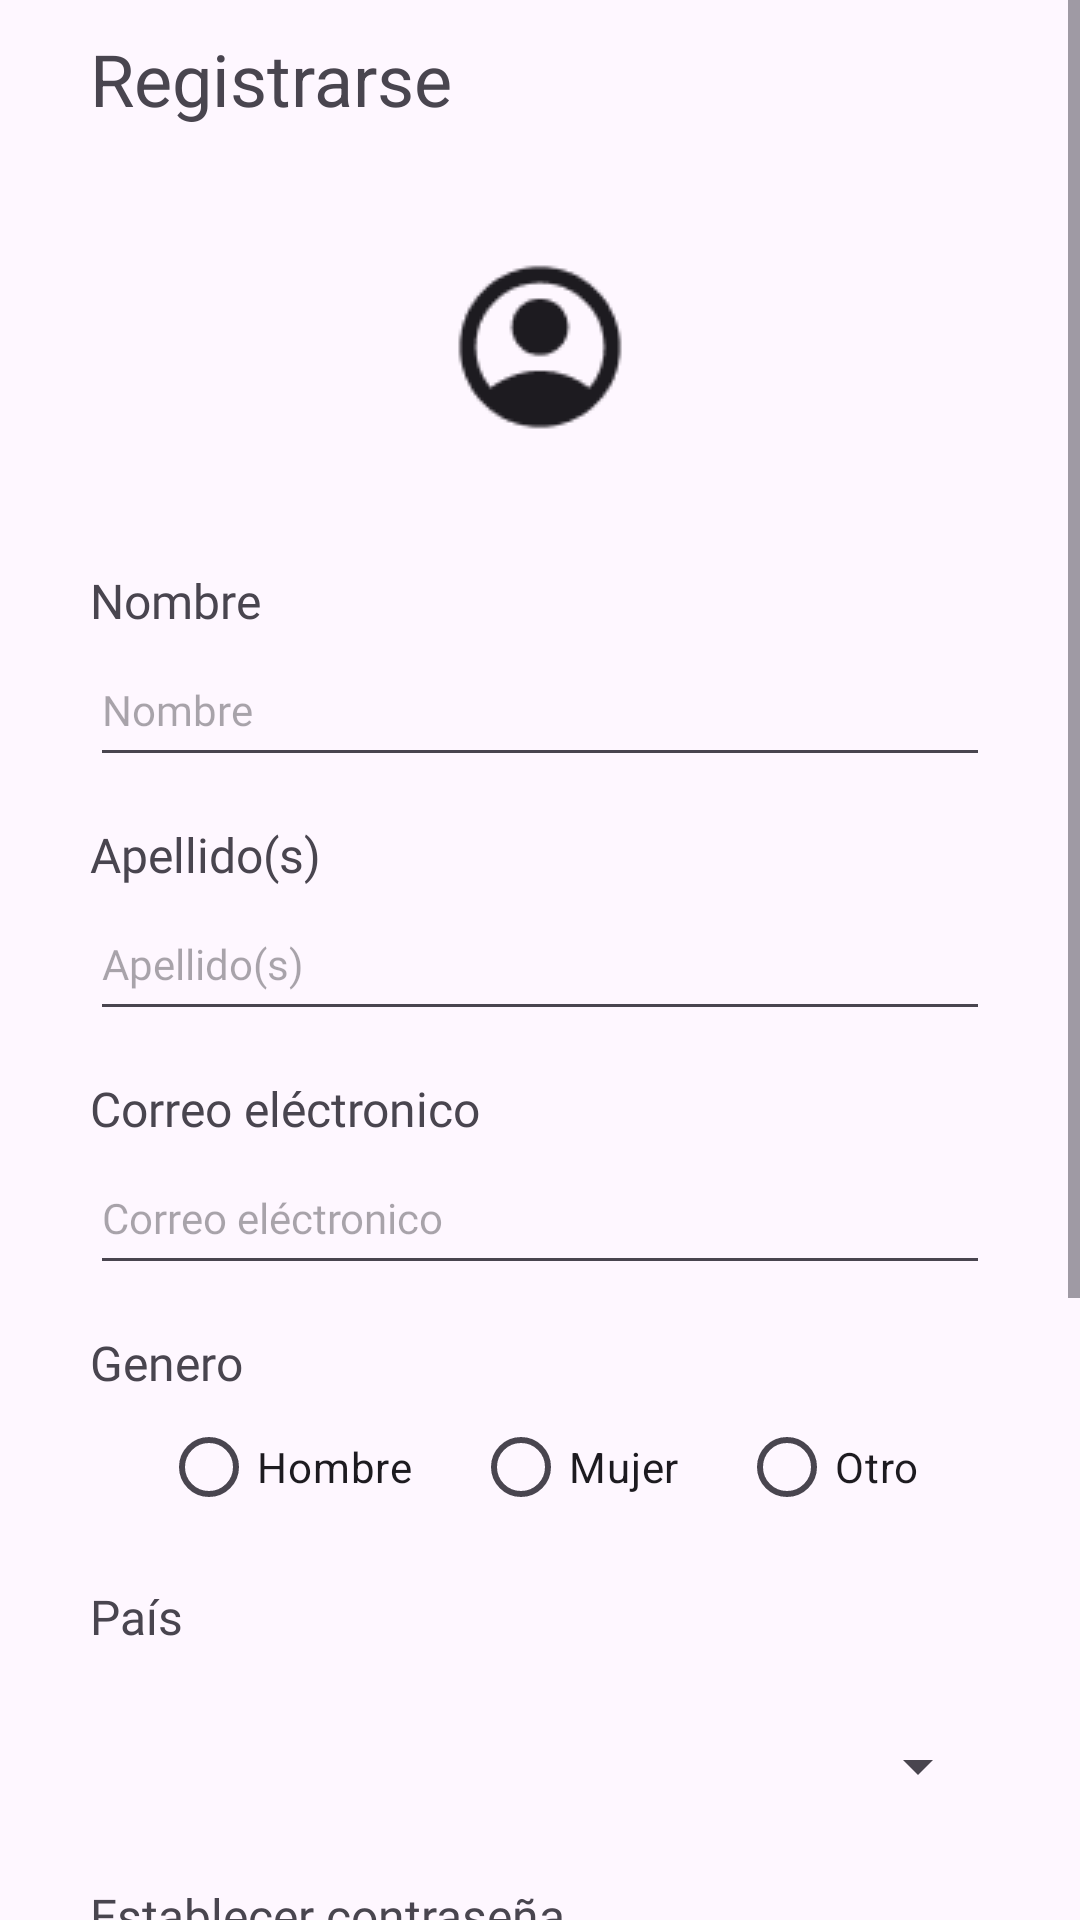

Where to tap for icons on this 1080×1920 app screen, as [x,y]:
Icono de usuario: [540,347]
